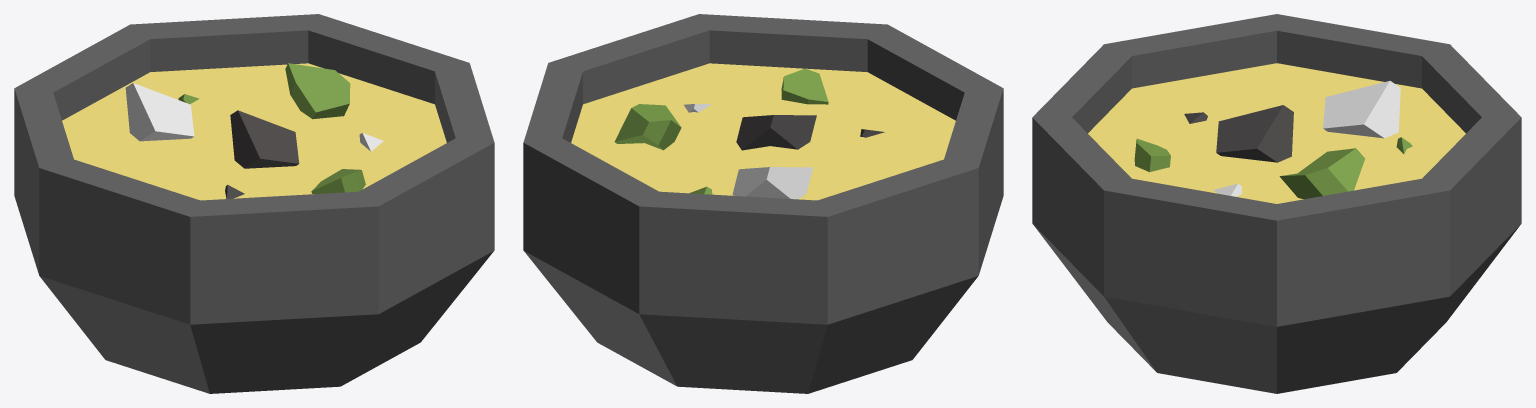
Rendered from Soup.fbx.
3 renders of one model, left to right at view 1: azimuth 30°, elevation 25°; view 2: azimuth 150°, elevation 25°; view 3: azimuth 270°, elevation 25°, orthographic.
Parts seen in each view (by area): view 1: Cylinder.025, Cylinder.029, Cube.020, Cube.017, Cube.018, Cube.019; view 2: Cylinder.025, Cylinder.029, Cube.020, Cube.017, Cube.018, Cube.019; view 3: Cylinder.025, Cylinder.029, Cube.020, Cube.017, Cube.018, Cube.019.
Part boxes in pixels (x1,y1,x2,y2): Cylinder.025: (14,14,494,393); Cylinder.029: (62,63,446,200); Cube.020: (230,110,299,168); Cube.017: (125,83,194,141); Cube.018: (285,63,350,119); Cube.019: (311,169,365,194); Cylinder.025: (523,14,1003,393); Cylinder.029: (571,63,955,200); Cube.020: (736,115,816,150); Cube.017: (732,167,812,199); Cube.018: (614,104,681,150); Cube.019: (781,68,828,104); Cylinder.025: (1032,14,1521,393); Cylinder.029: (1088,63,1465,203); Cube.020: (1216,105,1293,162); Cube.017: (1323,81,1400,138); Cube.018: (1279,148,1364,199); Cube.019: (1134,138,1170,172).
Size of the model in its own units: 182 by 86.55 by 182.
